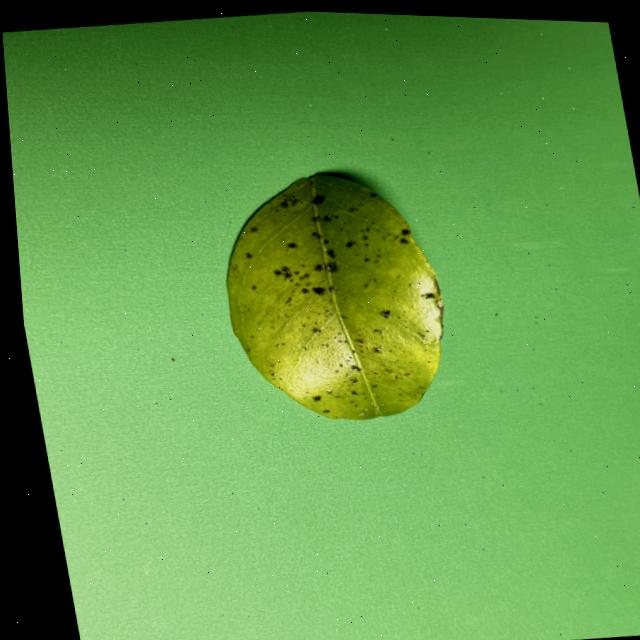sooty_mold: (226, 174, 442, 420)
